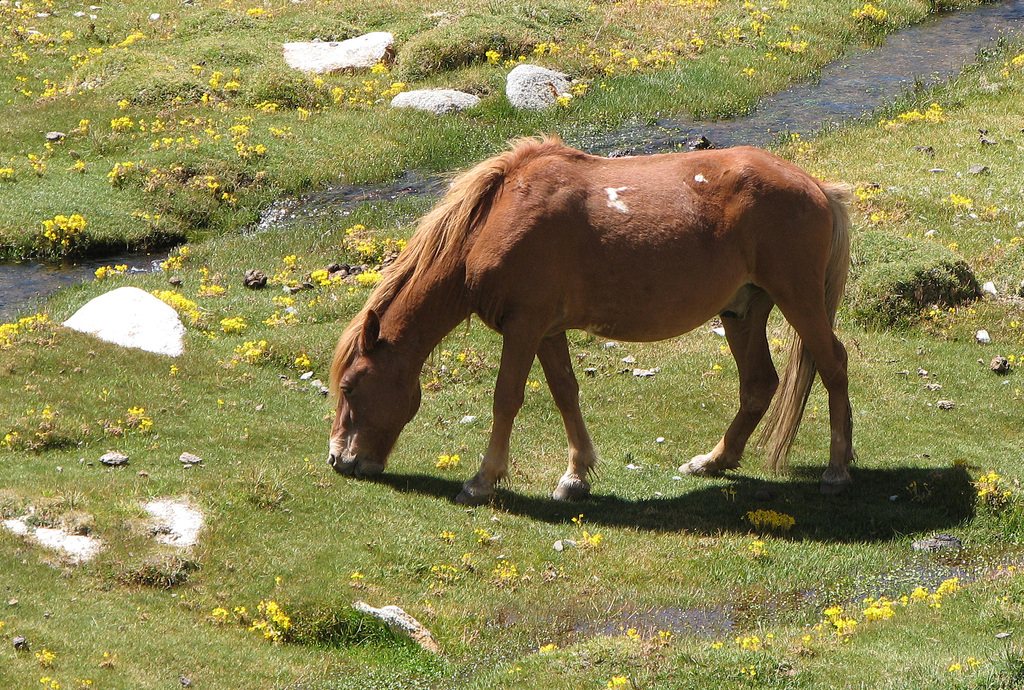horse: (327, 131, 856, 510)
